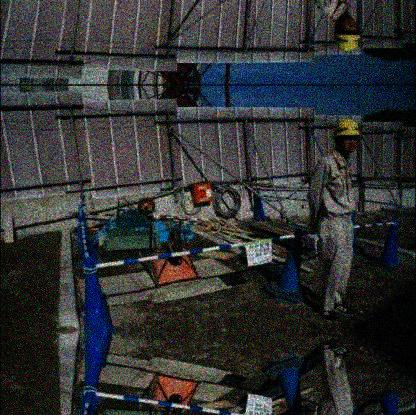helmet: (334, 118, 362, 158), (336, 14, 361, 53)
